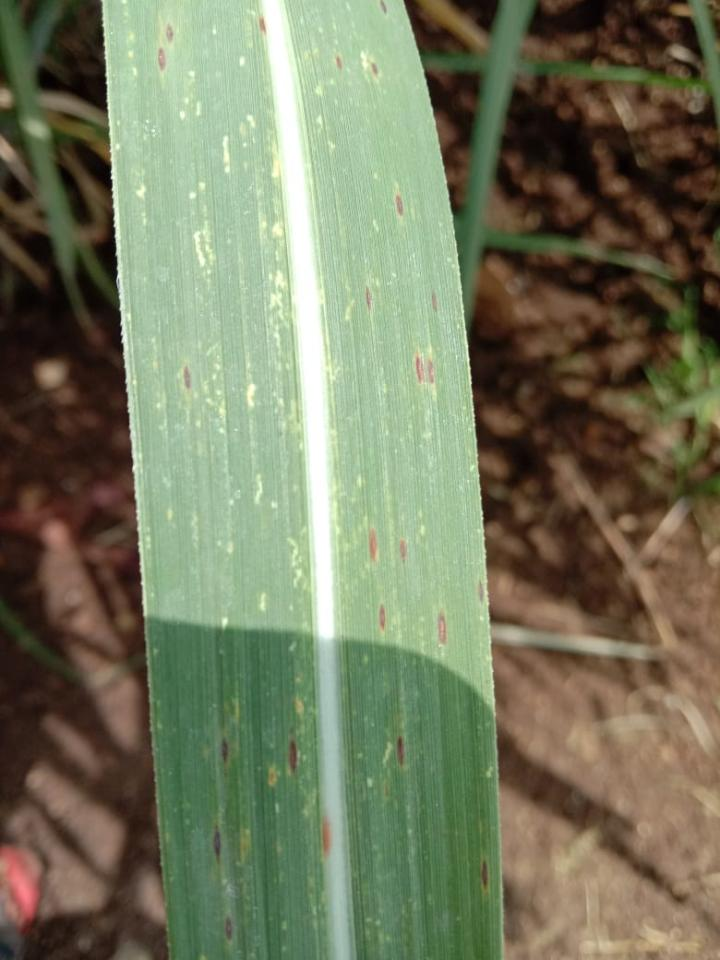RedRot: (319, 818, 335, 867)
Rust: (414, 351, 436, 384), (367, 526, 381, 564), (395, 735, 410, 770), (216, 736, 233, 765), (436, 612, 449, 646), (212, 826, 223, 866), (287, 739, 298, 779), (375, 603, 390, 632), (221, 913, 235, 944), (180, 366, 195, 393), (156, 43, 168, 75), (479, 860, 490, 893), (397, 536, 410, 562), (393, 194, 407, 218), (476, 578, 486, 606), (165, 22, 176, 47), (429, 291, 440, 314), (365, 287, 374, 312), (368, 62, 380, 77), (257, 16, 267, 33), (334, 54, 344, 70), (380, 0, 387, 14)
